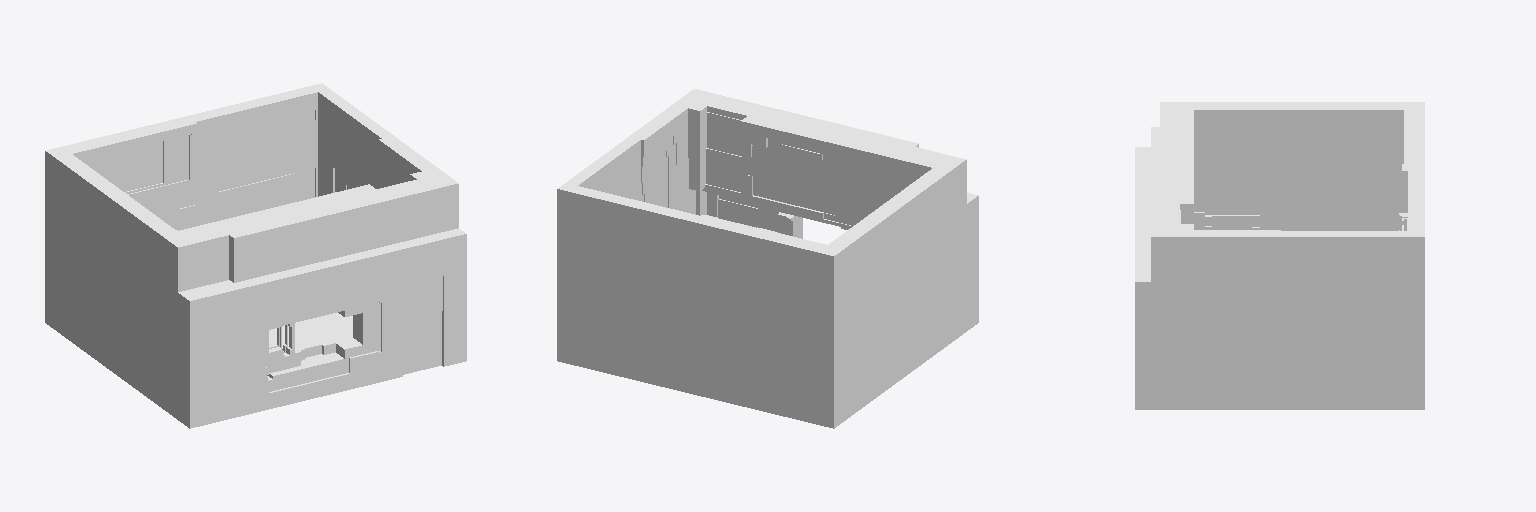
The model's file is BossPlace.obj.
The picture shows the model from 3 angles: view 1: azimuth 30°, elevation 25°; view 2: azimuth 150°, elevation 25°; view 3: azimuth 270°, elevation 25°; orthographic projection.
Parts seen in each view (by area): view 1: object 1; view 2: object 1; view 3: object 1.
Part boxes in pixels (left/top/right/bottom): object 1: left=45, top=83, right=466, bottom=428; object 1: left=557, top=89, right=978, bottom=428; object 1: left=1135, top=102, right=1424, bottom=409.
Size of the model in its own units: 25.2 by 15 by 22.8.